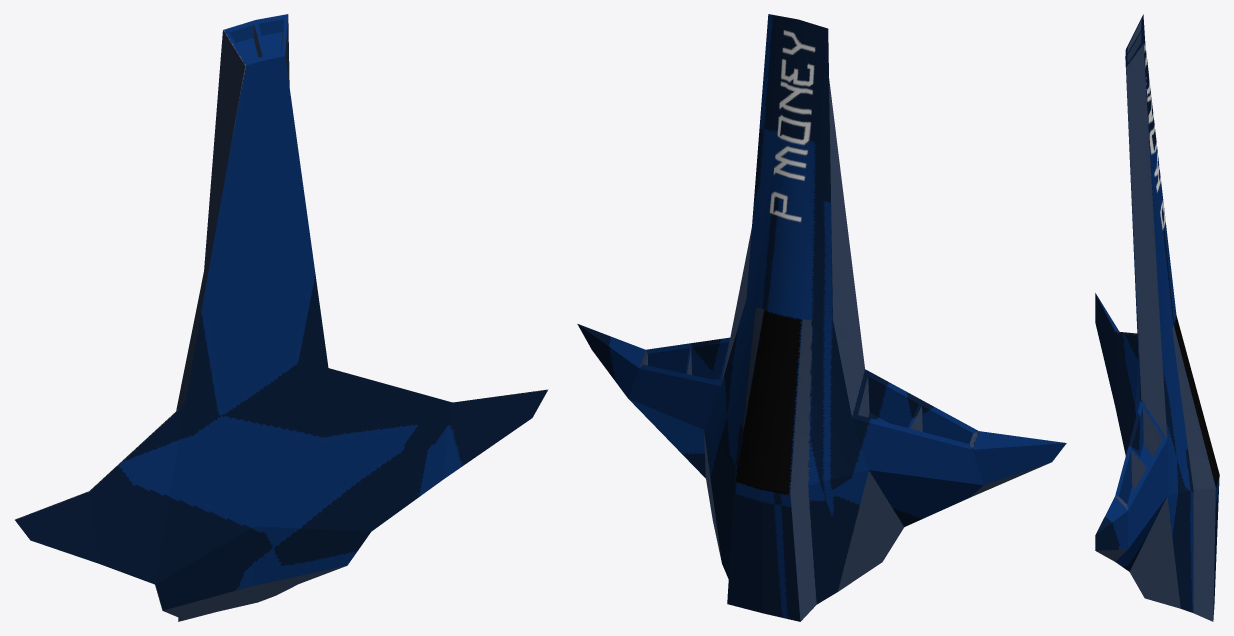
The model's file is ship4_PMoney.FBX.
3 renders of one model, left to right at view 1: azimuth 30°, elevation 25°; view 2: azimuth 150°, elevation 25°; view 3: azimuth 270°, elevation 25°, orthographic. The views are drawn at different scales.
Visible parts, largest first — view 1: ship4_PMoney; view 2: ship4_PMoney; view 3: ship4_PMoney.
Part boxes in pixels (box(x1,y1,x2,y2)): ship4_PMoney: box(15, 14, 548, 621); ship4_PMoney: box(577, 14, 1066, 621); ship4_PMoney: box(1095, 14, 1219, 621).
Size of the model in its own units: 219 by 243 by 47.43.
Materials: 1 (1 with a texture image).
